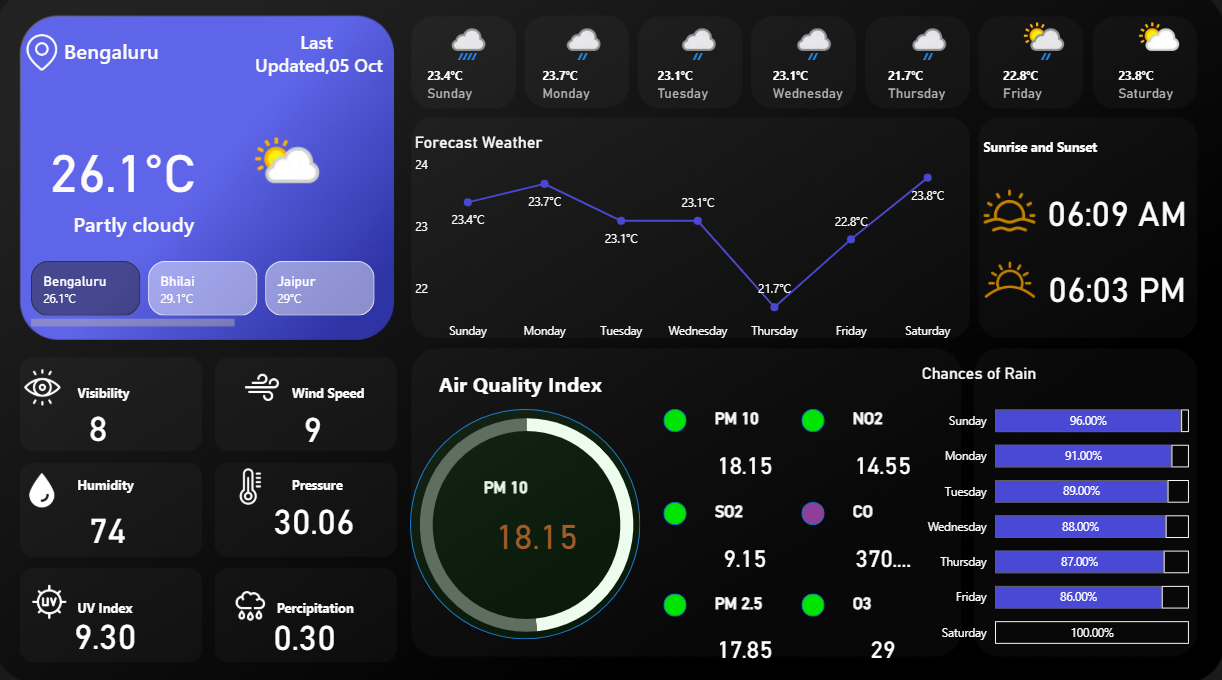

This screenshot's page, from the dashboard's own definition file:
{"tool":"powerbi","page":{"name":"Page 1","canvas":[1280,720],"ordinal":0},"visuals":[{"type":"advancedSlicerVisual","fields":{"Values":["Location.location.name"]},"box":[32,272,368,80],"z":0},{"type":"card","fields":{"Values":["_Measures.Current_temp_city"]},"box":[24,96,216,168],"z":1000},{"type":"card","fields":{"Values":["Min(Current.current.condition.text)"]},"box":[24,216,240,48],"z":2000},{"type":"card","fields":{"Values":["Min(Current.location.name)"]},"box":[0,24,240,72],"z":3000},{"type":"card","fields":{"Values":["_Measures.Last_updated_date"]},"box":[264,24,144,72],"z":4000},{"type":"image","box":[24,24,48,72],"z":5000},{"type":"cardVisual","fields":{"Data":["Min(Current.current.condition.icon)"]},"box":[240,96,120,168],"z":6000},{"type":"image","box":[0,384,96,48],"z":7000},{"type":"textbox","box":[80,400,112,32],"z":8000},{"type":"image","box":[240,384,72,48],"z":9000},{"type":"image","box":[24,480,48,72],"z":10000},{"type":"image","box":[240,480,48,64],"z":11000},{"type":"image","box":[32,608,48,48],"z":12000},{"type":"image","box":[240,600,48,72],"z":13000},{"type":"textbox","box":[80,624,160,32],"z":14000},{"type":"textbox","box":[304,400,96,32],"z":15000},{"type":"textbox","box":[304,496,96,48],"z":16000},{"type":"textbox","box":[288,624,128,32],"z":17000},{"type":"textbox","box":[80,496,112,48],"z":18000},{"type":"cardVisual","fields":{"Data":["Sum(Current.current.wind_kph)"]},"box":[304,400,64,96],"z":19000},{"type":"cardVisual","fields":{"Data":["Sum(Current.current.vis_km)"]},"box":[80,368,176,160],"z":20000},{"type":"cardVisual","fields":{"Data":["Sum(Current.current.precip_mm)"]},"box":[272,624,128,80],"z":21000},{"type":"cardVisual","fields":{"Data":["Sum(Current.current.uv)"]},"box":[64,608,112,112],"z":22000},{"type":"cardVisual","fields":{"Data":["Sum(Current.current.pressure_in)"]},"box":[272,464,144,160],"z":23000},{"type":"cardVisual","fields":{"Data":["Sum(Current.current.humidity)"]},"box":[80,512,80,64],"z":24000},{"type":"advancedSlicerVisual","fields":{"Values":["Forecast_day.Day_name"]},"box":[432,16,848,112],"z":25000},{"type":"lineChart","title":"Forecast Weather","fields":{"Y":["Sum(Forecast_day.forecast.forecastday.day.avgtemp_c)"],"Category":["Forecast_day.Day_name"]},"box":[432,144,576,224],"z":26000},{"type":"card","fields":{"Values":["Min(Forecast_day.Sunrise_Date)"]},"box":[1088,192,160,64],"z":27000},{"type":"card","fields":{"Values":["Min(Forecast_day.Sunset_Date)"]},"box":[1088,272,160,64],"z":28000},{"type":"textbox","box":[1024,144,240,64],"z":29000},{"type":"image","box":[1024,192,64,64],"z":30000},{"type":"image","box":[1008,256,96,80],"z":31000},{"type":"hundredPercentStackedBarChart","title":"Chances of Rain","fields":{"Category":["Forecast_day.Day_name"],"Y":["Sum(Forecast_day.forecast.forecastday.day.daily_chance_of_rain)","_Measures.Left_Value_Rain"]},"box":[960,384,288,312],"z":32000},{"type":"textbox","box":[456,384,264,48],"z":33000},{"type":"card","title":"NO2","fields":{"Values":["Sum(Current.current.air_quality.no2)"]},"box":[888,432,72,96],"z":34000},{"type":"card","title":"CO","fields":{"Values":["Sum(Current.current.air_quality.co)"]},"box":[888,528,72,96],"z":35000},{"type":"card","title":"PM 10","fields":{"Values":["Sum(Current.current.air_quality.pm10)"]},"box":[744,432,72,96],"z":36000},{"type":"card","title":"SO2","fields":{"Values":["Sum(Current.current.air_quality.so2)"]},"box":[744,528,72,96],"z":37000},{"type":"card","title":"PM 2.5","fields":{"Values":["Sum(Current.current.air_quality.pm2_5)"]},"box":[744,624,72,96],"z":38000},{"type":"card","title":"O3","fields":{"Values":["Sum(Current.current.air_quality.o3)"]},"box":[888,624,72,96],"z":39000},{"type":"shape","box":[696,432,24,24],"z":40000},{"type":"shape","box":[840,432,24,24],"z":41000},{"type":"shape","box":[840,528,24,24],"z":42000},{"type":"shape","box":[840,624,24,24],"z":43000},{"type":"shape","box":[696,528,24,24],"z":44000},{"type":"shape","box":[696,624,24,24],"z":45000},{"type":"card","title":"PM 10","fields":{"Values":["Sum(Current.current.air_quality.pm10)"]},"box":[504,504,120,96],"z":46000},{"type":"donutChart","fields":{"Y":["_Measures.Left_value_pm10","_Measures.MaxValue"]},"box":[384,408,336,288],"z":47000},{"type":"shape","box":[432,432,240,240],"z":48000}]}

Visuals, with their boxes in screenshot pixels (x1, y1, x2, y2), scaled from the page's 1280x720 canvas onto the 1222x680 screenshot:
advancedSlicerVisual - Location.location.name: locate(31, 257, 382, 332)
card - _Measures.Current_temp_city: locate(23, 91, 229, 249)
card - Min(Current.current.condition.text): locate(23, 204, 252, 249)
card - Min(Current.location.name): locate(0, 23, 229, 91)
card - _Measures.Last_updated_date: locate(252, 23, 390, 91)
image: locate(23, 23, 69, 91)
cardVisual - Min(Current.current.condition.icon): locate(229, 91, 344, 249)
image: locate(0, 363, 92, 408)
textbox: locate(76, 378, 183, 408)
image: locate(229, 363, 298, 408)
image: locate(23, 453, 69, 521)
image: locate(229, 453, 275, 514)
image: locate(31, 574, 76, 620)
image: locate(229, 567, 275, 635)
textbox: locate(76, 589, 229, 620)
textbox: locate(290, 378, 382, 408)
textbox: locate(290, 468, 382, 514)
textbox: locate(275, 589, 397, 620)
textbox: locate(76, 468, 183, 514)
cardVisual - Sum(Current.current.wind_kph): locate(290, 378, 351, 468)
cardVisual - Sum(Current.current.vis_km): locate(76, 348, 244, 499)
cardVisual - Sum(Current.current.precip_mm): locate(260, 589, 382, 665)
cardVisual - Sum(Current.current.uv): locate(61, 574, 168, 679)
cardVisual - Sum(Current.current.pressure_in): locate(260, 438, 397, 589)
cardVisual - Sum(Current.current.humidity): locate(76, 484, 153, 544)
advancedSlicerVisual - Forecast_day.Day_name: locate(412, 15, 1221, 121)
"Forecast Weather" lineChart: locate(412, 136, 962, 348)
card - Min(Forecast_day.Sunrise_Date): locate(1039, 181, 1191, 242)
card - Min(Forecast_day.Sunset_Date): locate(1039, 257, 1191, 317)
textbox: locate(978, 136, 1207, 196)
image: locate(978, 181, 1039, 242)
image: locate(962, 242, 1054, 317)
"Chances of Rain" hundredPercentStackedBarChart: locate(916, 363, 1191, 657)
textbox: locate(435, 363, 687, 408)
"NO2" card: locate(848, 408, 916, 499)
"CO" card: locate(848, 499, 916, 589)
"PM 10" card: locate(710, 408, 779, 499)
"SO2" card: locate(710, 499, 779, 589)
"PM 2.5" card: locate(710, 589, 779, 679)
"O3" card: locate(848, 589, 916, 679)
shape: locate(664, 408, 687, 431)
shape: locate(802, 408, 825, 431)
shape: locate(802, 499, 825, 521)
shape: locate(802, 589, 825, 612)
shape: locate(664, 499, 687, 521)
shape: locate(664, 589, 687, 612)
"PM 10" card: locate(481, 476, 596, 567)
donutChart - _Measures.Left_value_pm10 x _Measures.MaxValue: locate(367, 385, 687, 657)
shape: locate(412, 408, 642, 635)
